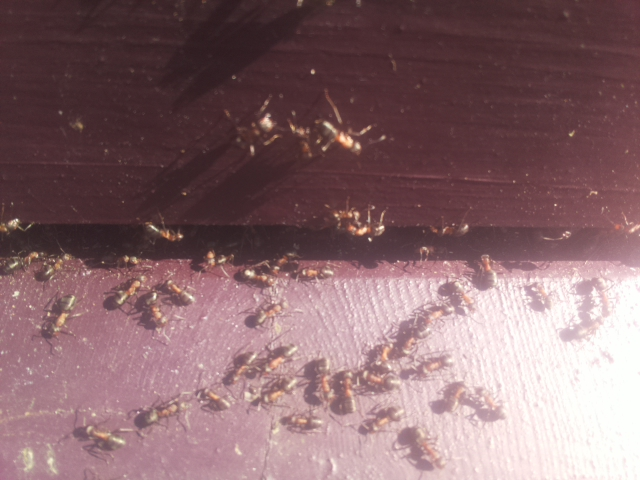ant: (305, 109, 370, 161), (33, 287, 87, 346), (401, 422, 454, 474), (130, 398, 194, 432), (215, 346, 262, 390), (284, 111, 320, 165), (73, 422, 131, 454), (244, 295, 291, 332), (427, 380, 471, 417), (358, 402, 408, 434), (110, 270, 149, 310), (470, 384, 510, 422), (262, 339, 303, 375), (142, 217, 188, 248), (161, 275, 199, 308), (192, 386, 237, 413), (194, 246, 234, 275), (145, 285, 168, 335), (265, 373, 299, 406), (473, 251, 499, 293), (278, 411, 324, 433), (337, 370, 356, 419), (448, 277, 475, 310), (422, 350, 455, 376), (239, 266, 279, 287)
